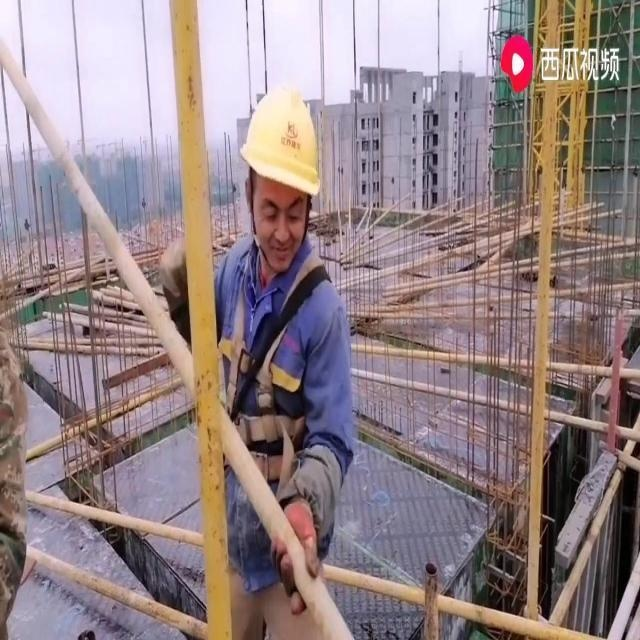Arnes_seguridad: (219, 232, 339, 487)
